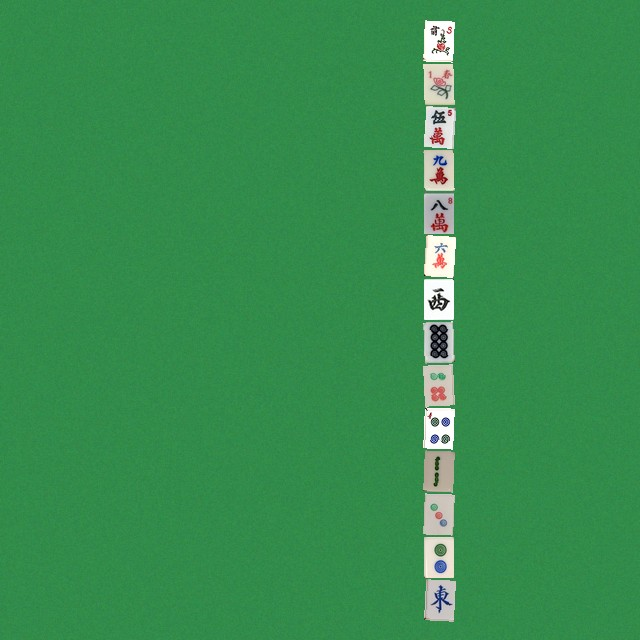tile: (423, 20, 453, 61), (423, 63, 453, 104), (423, 106, 453, 147), (423, 149, 453, 190), (423, 192, 453, 233), (423, 235, 453, 276), (423, 278, 453, 319), (423, 321, 453, 362), (423, 364, 453, 405), (423, 407, 453, 448), (423, 450, 453, 491), (423, 493, 453, 534), (423, 536, 453, 577), (423, 579, 453, 620)
